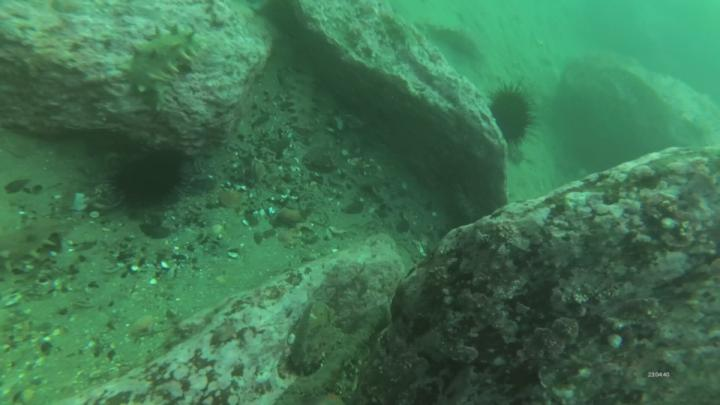echinus: (117, 151, 185, 206), (492, 91, 531, 141)
holothurian: (128, 27, 204, 110), (1, 221, 62, 274), (289, 58, 320, 135)
